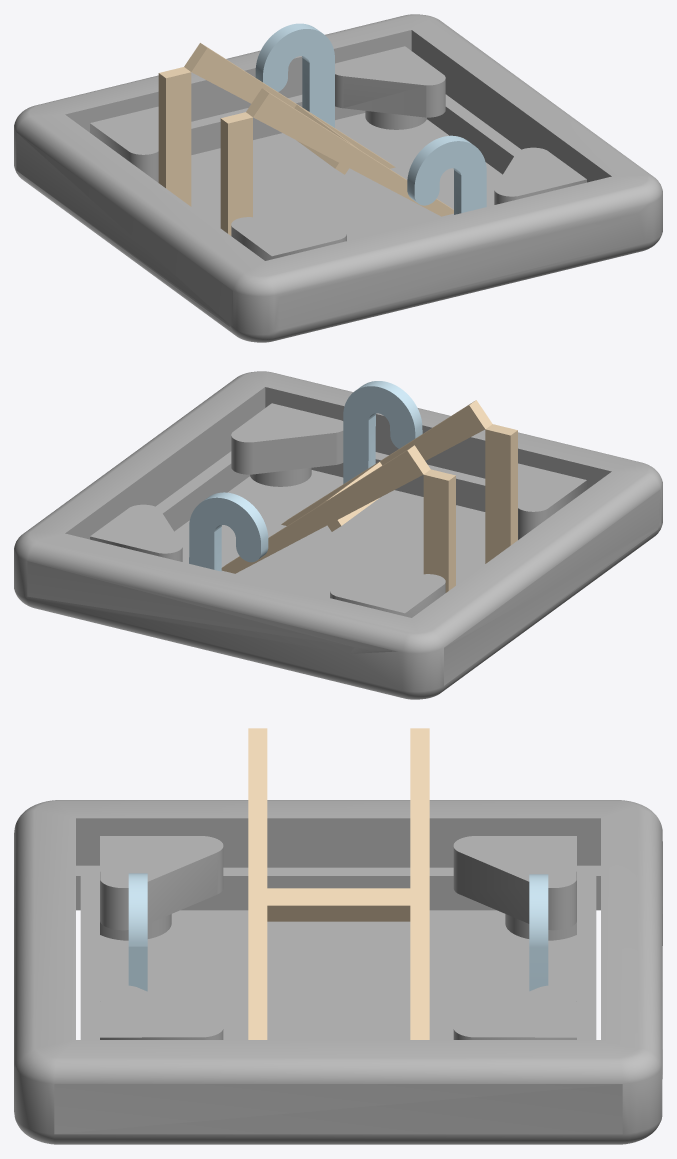
File: Chassis.dae
3 renders of one model, top to bottom at view 1: azimuth 30°, elevation 25°; view 2: azimuth 150°, elevation 25°; view 3: azimuth 270°, elevation 25°, orthographic. The views are drawn at different scales.
Visible parts, largest first — view 1: Part 1.004; view 2: Part 1.004; view 3: Part 1.004.
Part boxes in pixels (box(x1,y1,x2,y2)): Part 1.004: box(14, 14, 662, 342); Part 1.004: box(14, 371, 662, 699); Part 1.004: box(14, 728, 662, 1144).
Bounding box in the file's own units: 0.8624 × 0.8636 × 0.3247.
